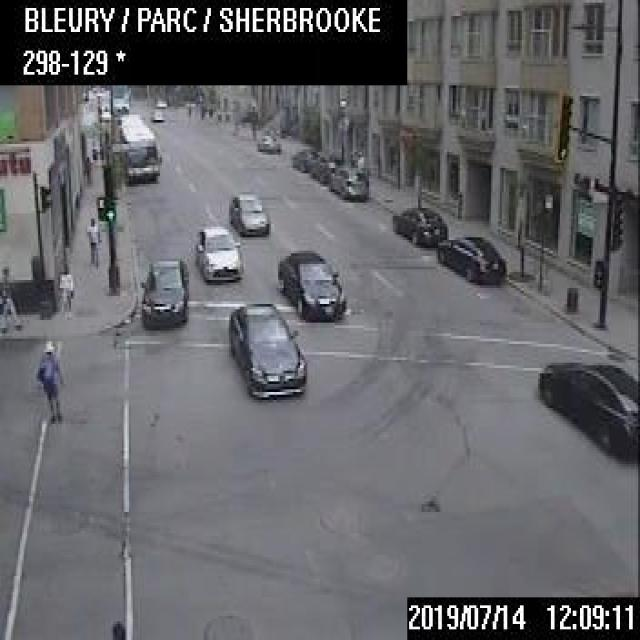bus: (116, 112, 160, 180)
pedestrian: (34, 336, 66, 424), (0, 266, 18, 331), (54, 259, 72, 320), (84, 214, 100, 267), (108, 616, 126, 637), (82, 152, 90, 185)
vehicle: (536, 361, 638, 461), (227, 300, 306, 398), (276, 250, 344, 319), (136, 255, 188, 328), (436, 234, 504, 283), (193, 225, 241, 279), (391, 206, 446, 244), (227, 192, 268, 236), (329, 166, 367, 200), (308, 151, 339, 182), (291, 146, 317, 170), (256, 130, 280, 152), (149, 108, 162, 119)
